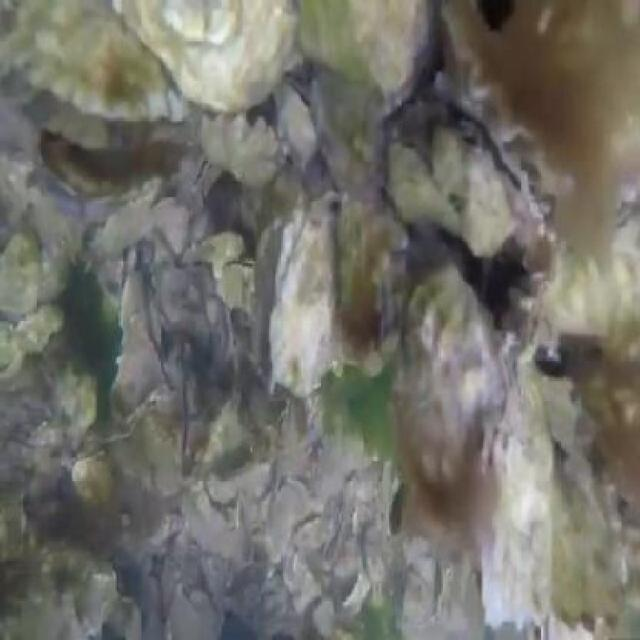Oyster-Closed: (299, 0, 429, 115)
Oyster-Indeterminate: (114, 0, 304, 113), (405, 269, 496, 486), (481, 344, 551, 618), (536, 207, 640, 344)
Oyster-Open: (429, 0, 640, 205), (0, 0, 191, 152), (248, 186, 342, 391), (0, 551, 110, 640)
